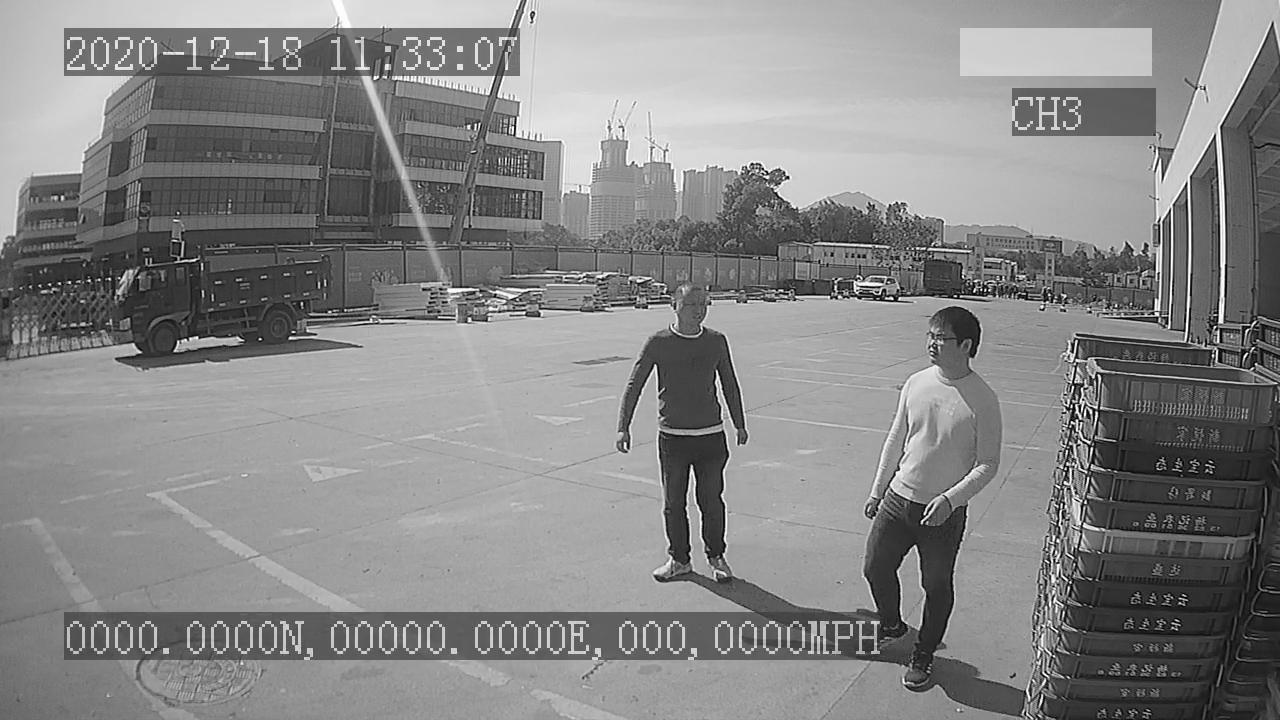person: (614, 276, 756, 584)
